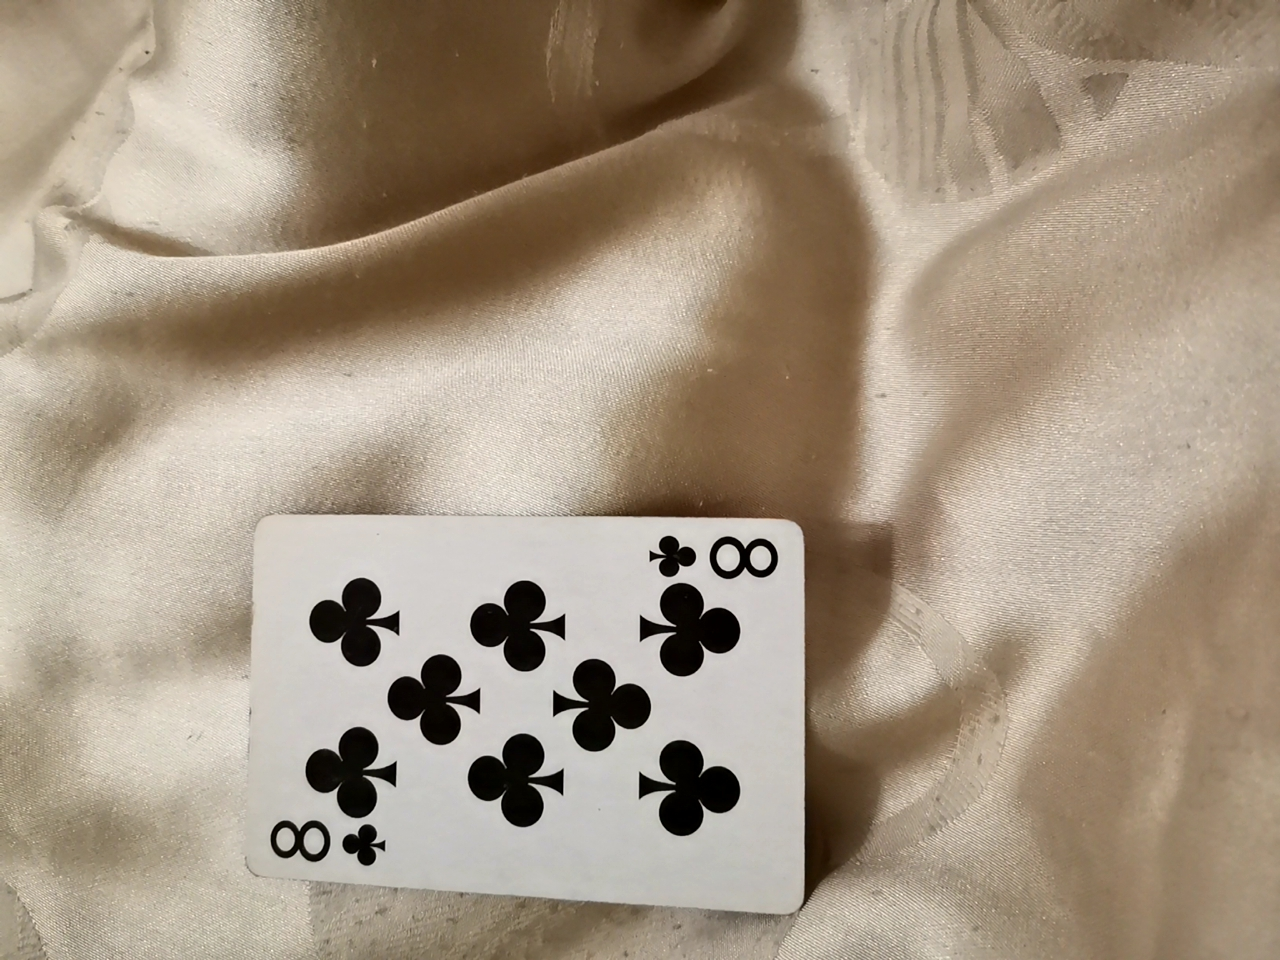mh 8: (233, 506, 788, 914)
